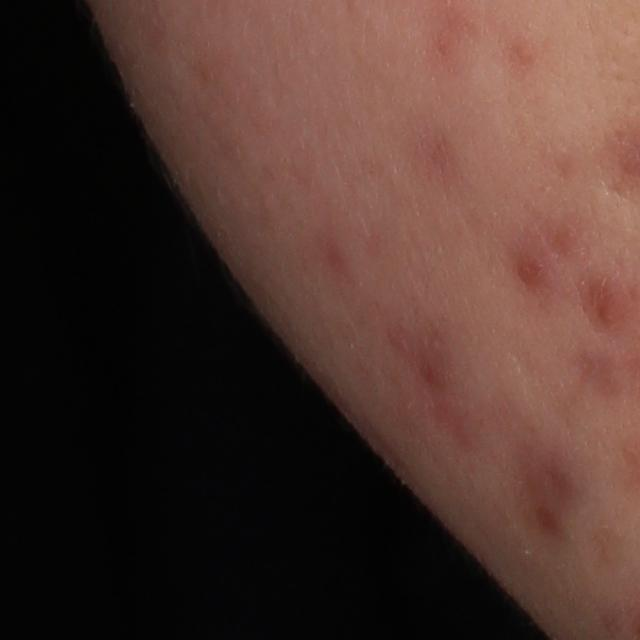papule: (512, 251, 550, 293)
